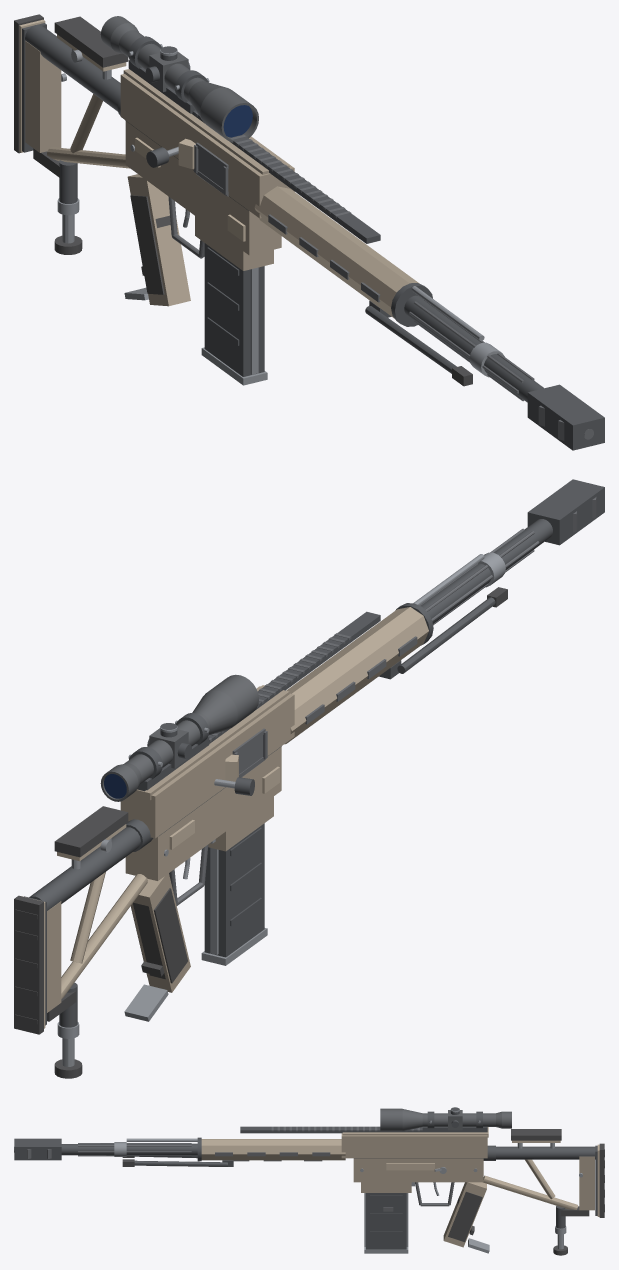
File: antimat.glb
The picture shows the model from 3 angles, top to bottom: view 1: azimuth 30°, elevation 25°; view 2: azimuth 150°, elevation 25°; view 3: azimuth 270°, elevation 25°; orthographic projection. The views are drawn at different scales.
Visible parts, largest first — view 1: body, mag; view 2: body, mag; view 3: body, mag.
Part boxes in pixels (x1,y1,x2,y2): body: (14, 14, 604, 450); mag: (201, 243, 267, 385); body: (14, 479, 604, 1078); mag: (201, 823, 267, 965); body: (14, 1107, 604, 1255); mag: (364, 1193, 408, 1253).
Bounding box in the file's own units: 0.1108 × 0.3896 × 1.46.
